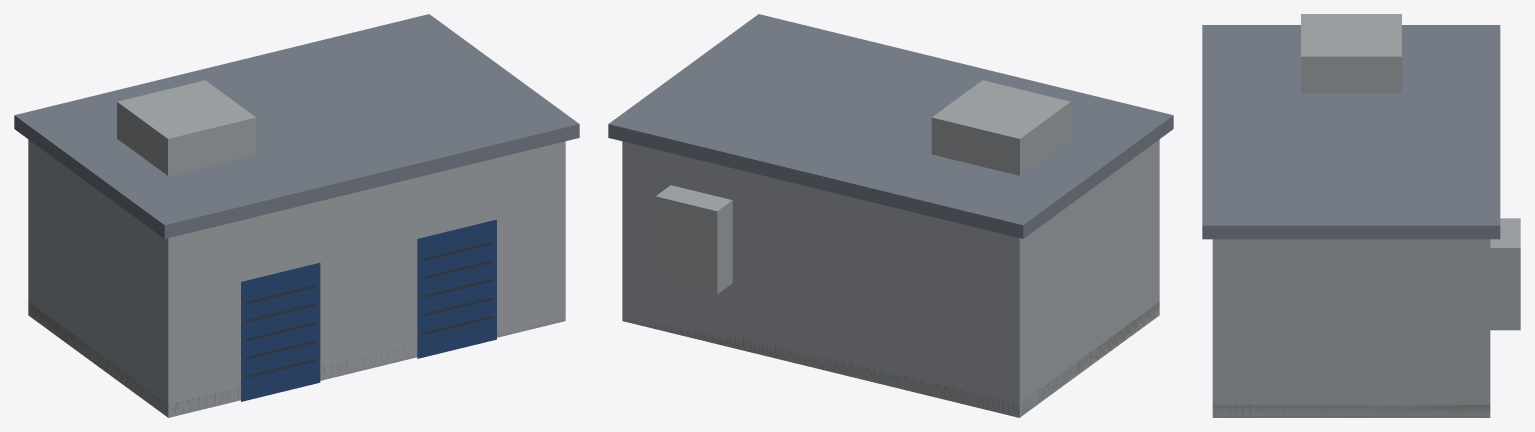
Rendered from building-substation.glb.
3 renders of one model, left to right at view 1: azimuth 30°, elevation 25°; view 2: azimuth 150°, elevation 25°; view 3: azimuth 270°, elevation 25°, orthographic.
Visible parts, largest first — view 1: building; view 2: building; view 3: building.
Part boxes in pixels (x1,y1,x2,y2): building: (14, 14, 579, 417); building: (608, 14, 1173, 417); building: (1202, 14, 1520, 417).
Bounding box in the file's own units: 9.4 × 5.1 × 6.3.
Materials: 1 (1 with a texture image).
